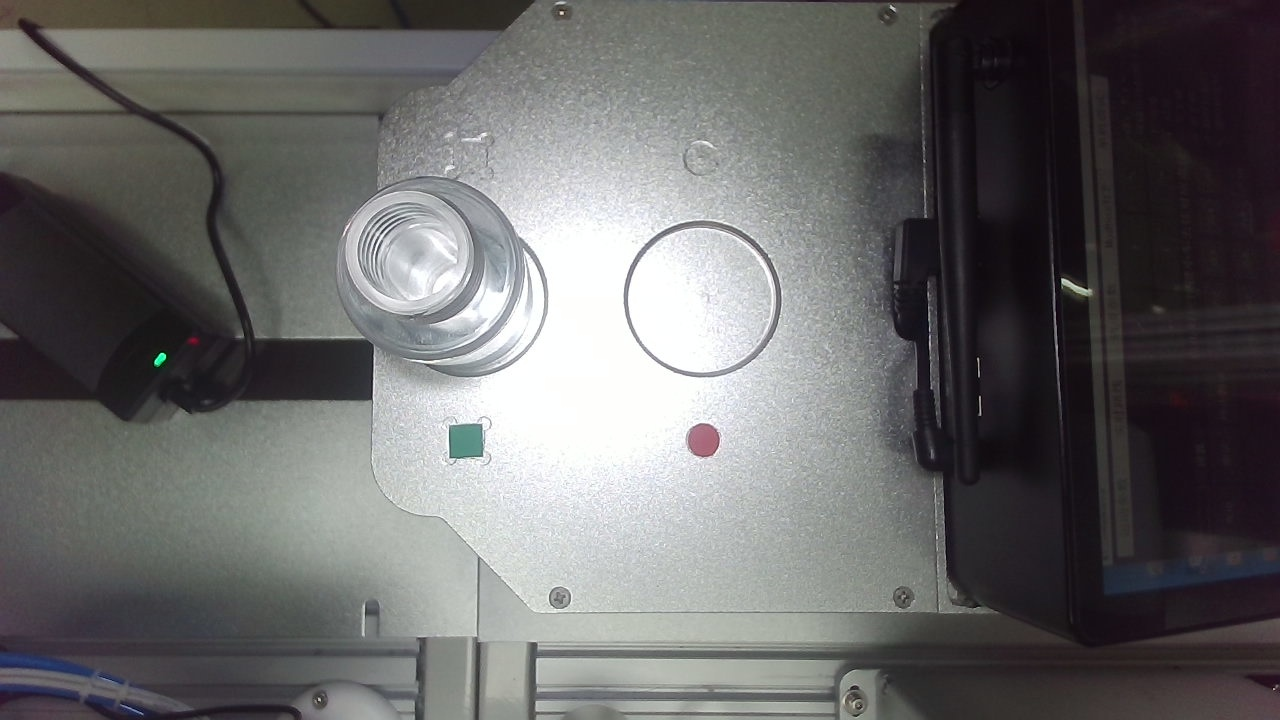XLabel: (454, 115, 526, 184)
YLabel: (890, 125, 955, 195)
none: (314, 253, 645, 582), (771, 256, 1093, 588)
